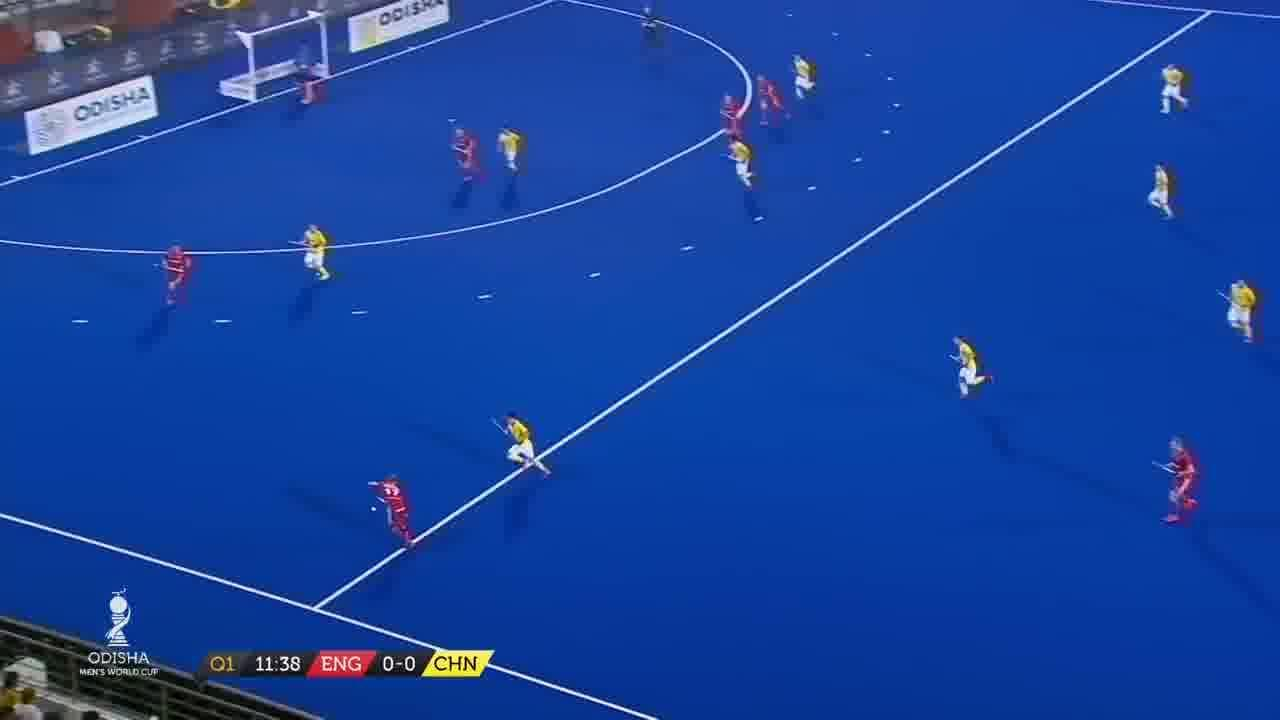ball: (365, 498, 381, 518)
